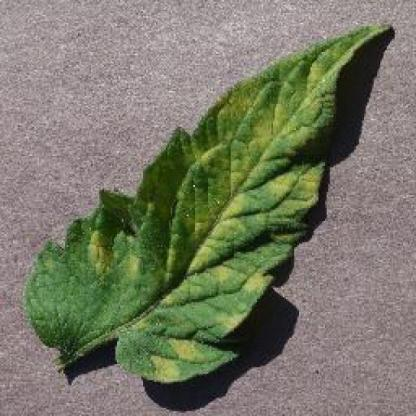Tomato_Leaf_Mold: (34, 25, 395, 383)
